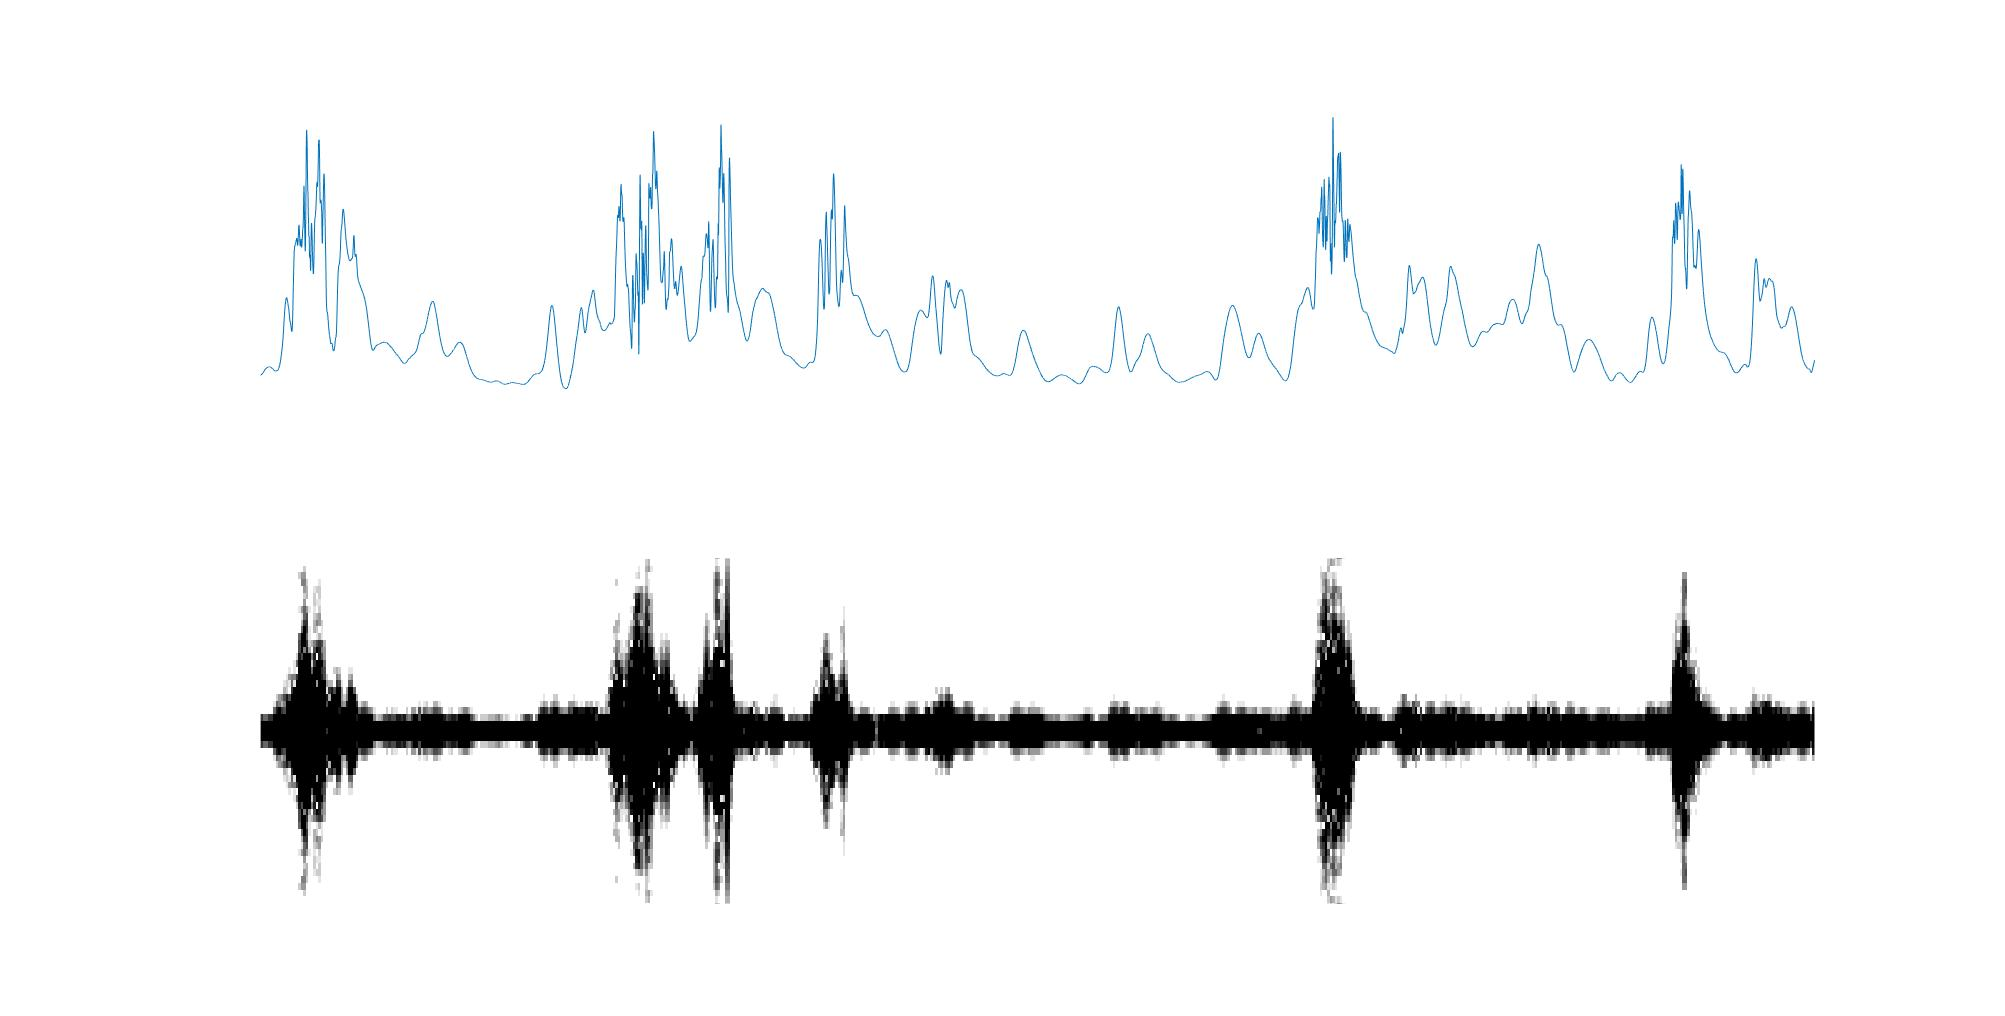spot: (607, 568, 680, 901), (1309, 564, 1357, 895), (697, 557, 741, 907), (297, 573, 329, 897), (1672, 568, 1701, 892)
